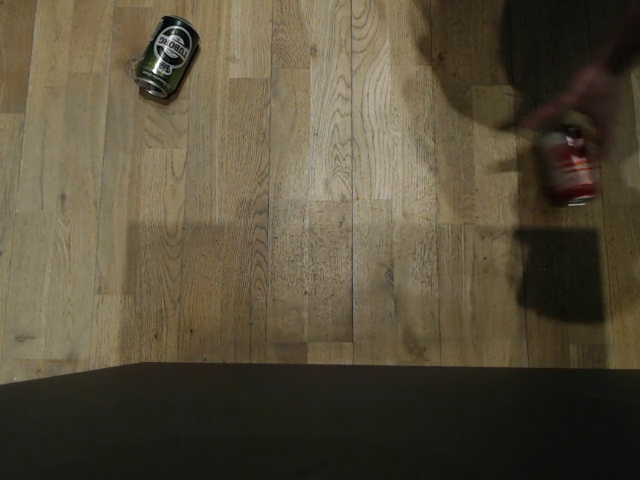beer: (132, 13, 203, 102)
cola: (531, 121, 601, 208)
